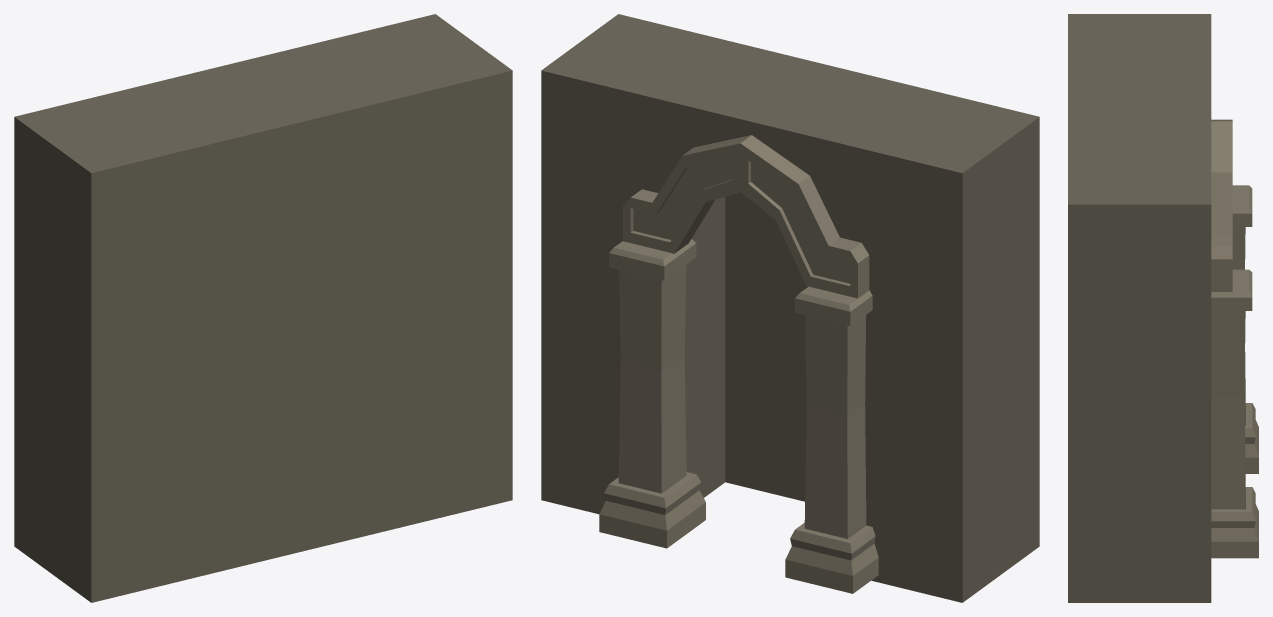
Rendered from TempleWall_D.fbx.
3 renders of one model, left to right at view 1: azimuth 30°, elevation 25°; view 2: azimuth 150°, elevation 25°; view 3: azimuth 270°, elevation 25°, orthographic. The views are drawn at different scales.
Parts seen in each view (by area): view 1: TempleWall_D; view 2: TempleWall_D; view 3: TempleWall_D.
Part boxes in pixels (x1,y1,x2,y2): TempleWall_D: [14, 14, 512, 602]; TempleWall_D: [541, 14, 1039, 602]; TempleWall_D: [1068, 14, 1258, 602].
Size of the model in its own units: 1199 by 1168 by 507.
